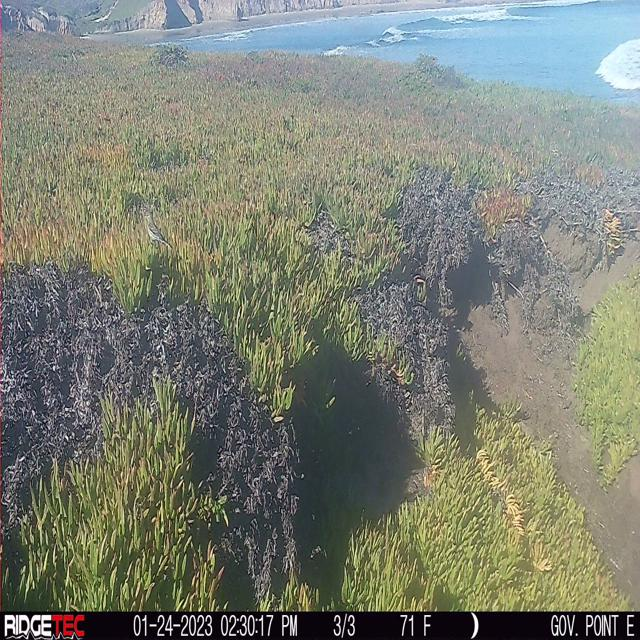bird: (138, 205, 182, 267)
